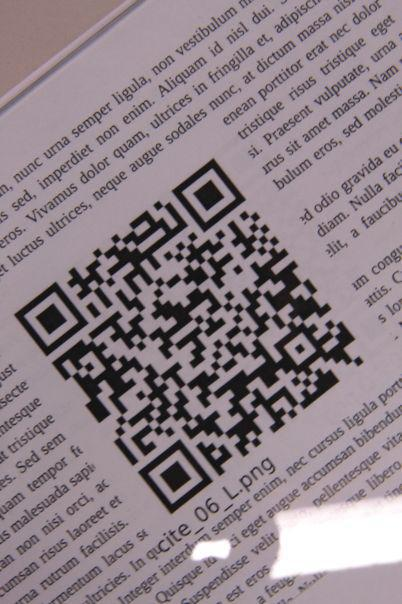Finder pattern: (138, 435, 216, 518), (169, 156, 249, 233), (14, 284, 86, 355)
